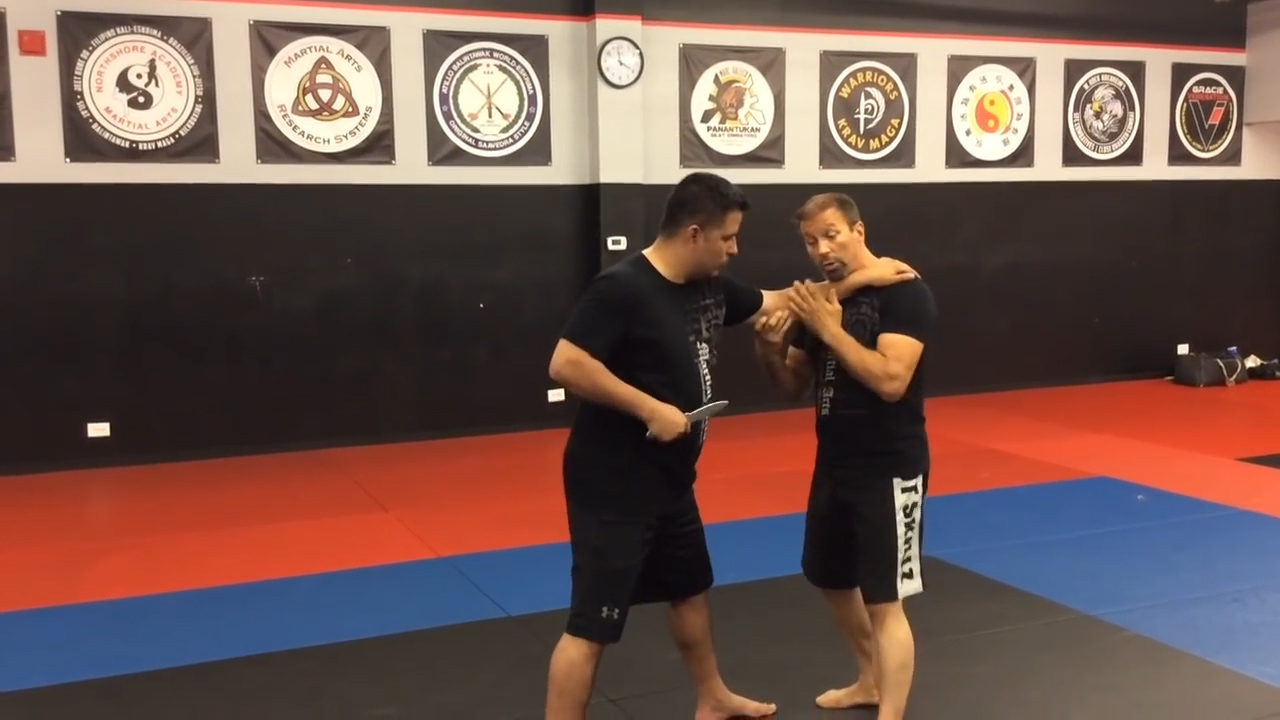knife: (640, 393, 733, 443)
